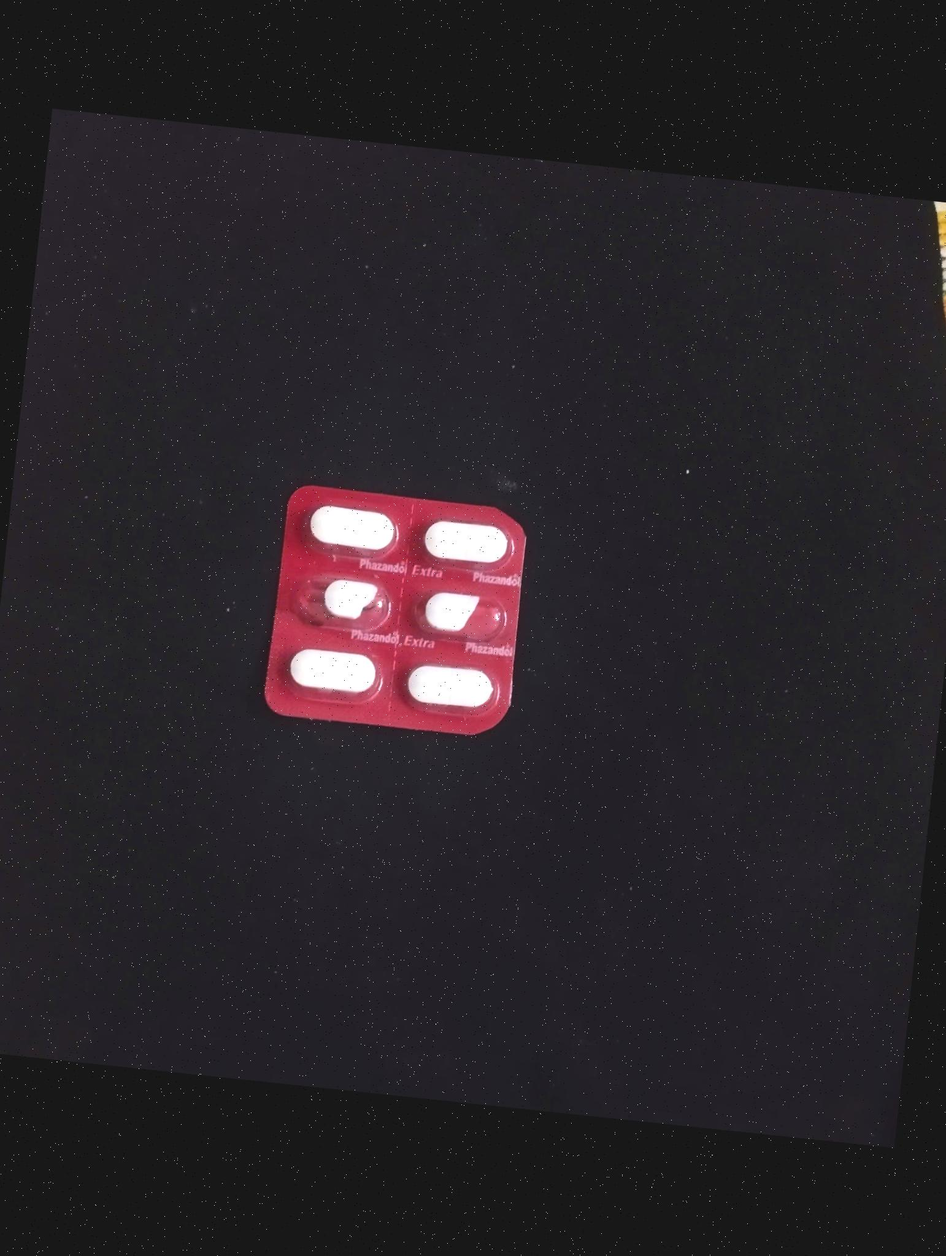Full: (298, 495, 399, 561), (279, 641, 386, 703), (394, 658, 500, 718), (417, 513, 521, 573)
Partial: (405, 580, 513, 646), (281, 572, 392, 635)
